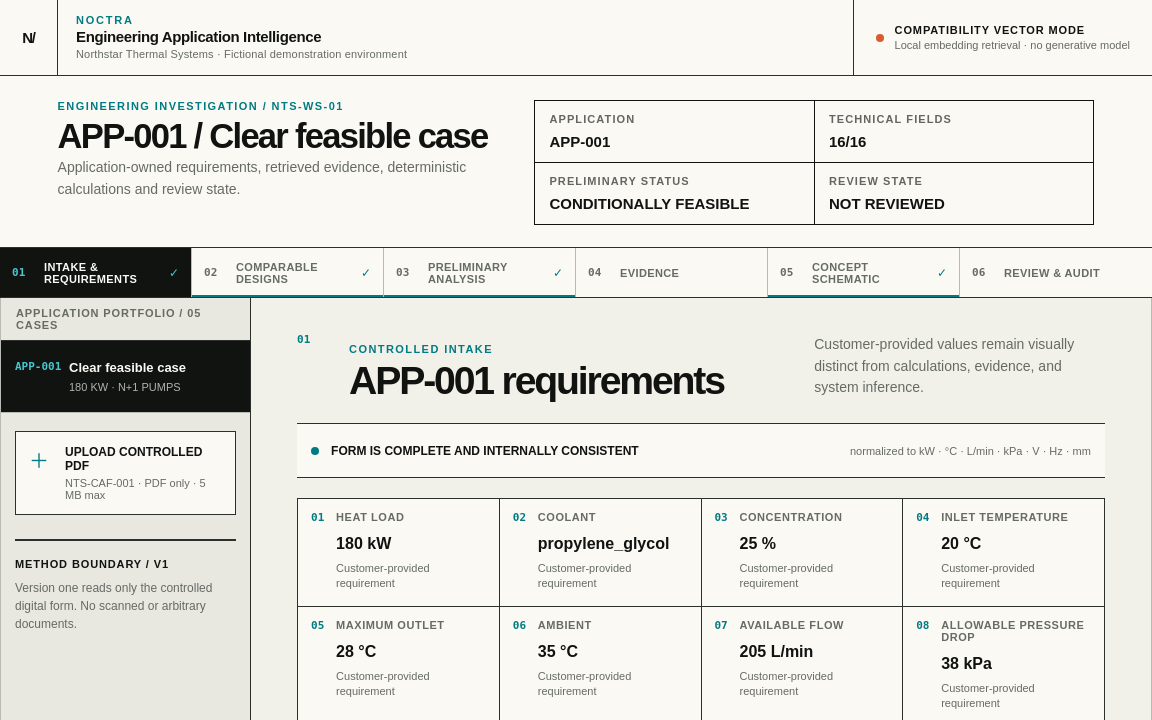
Test: workspace › keeps return and reject available when only approval is prohibited
Expected: the heading "APP-001 requirements" is shown, [349, 359, 724, 402]
Click the button "06 Review & audit": (1056, 272) [960, 248, 1151, 297]
(page scrolled)
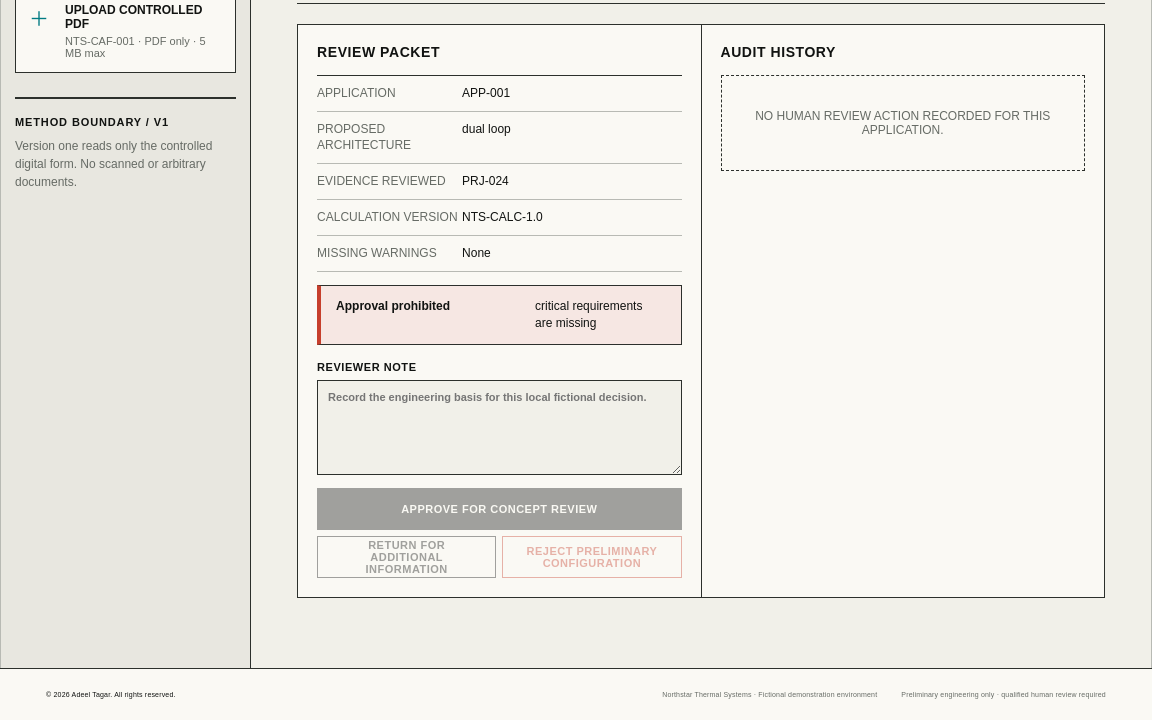
In the text box with placeholder "Record the engineering basis": (499, 428) [317, 380, 682, 475], type "Needs valid input"
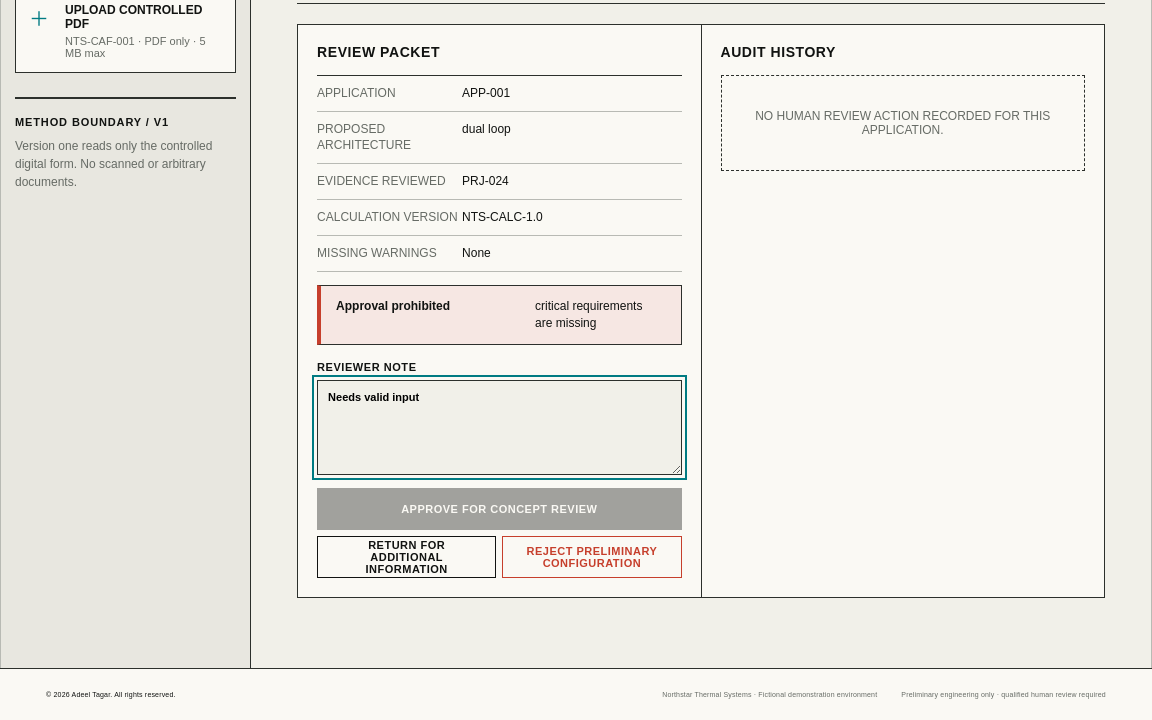
Now the button "Approve for concept review" is disabled, box [317, 488, 682, 530]
Now the button "Return for additional information" is enabled, box [317, 536, 496, 578]
Now the button "Reject preliminary configuration" is enabled, box [502, 536, 682, 578]
